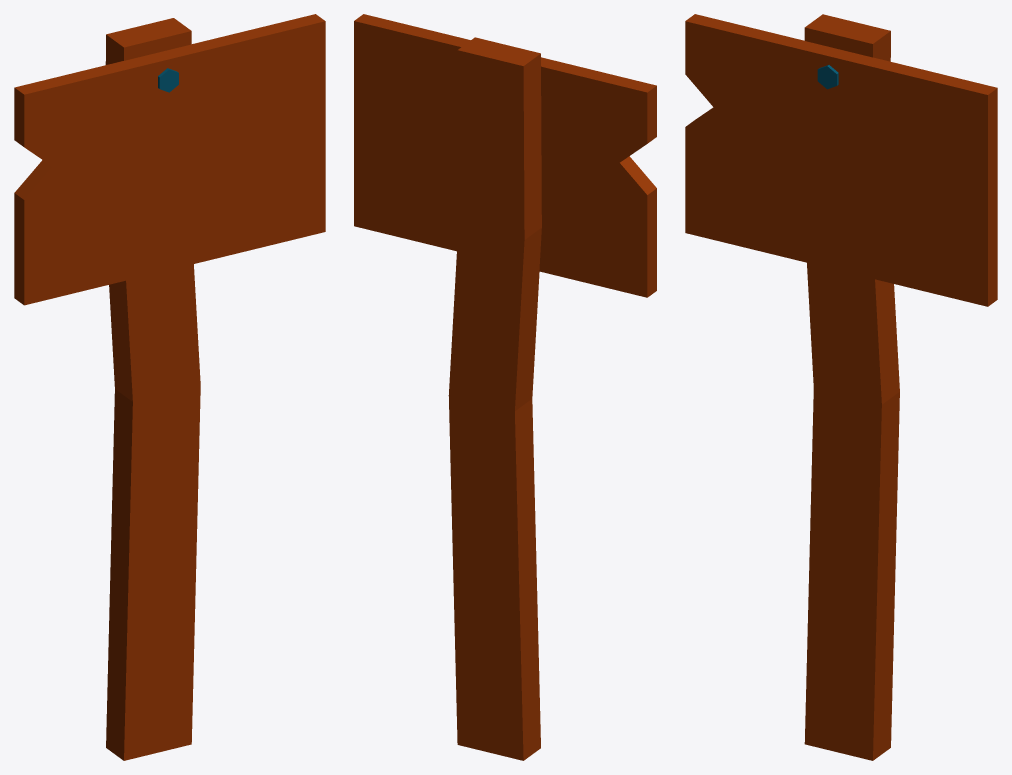
The model's file is PlacaMadeira.fbx.
The picture shows the model from 3 angles, left to right: view 1: azimuth 30°, elevation 25°; view 2: azimuth 150°, elevation 25°; view 3: azimuth 330°, elevation 25°; orthographic projection. The views are drawn at different scales.
Visible parts, largest first — view 1: Placa; view 2: Placa; view 3: Placa.
Boxes of the visible parts, bbox=[...] form: Placa: bbox=[14, 14, 325, 760]; Placa: bbox=[354, 14, 656, 760]; Placa: bbox=[685, 14, 997, 760].
Size of the model in its own units: 58.62 by 133 by 9.94.
